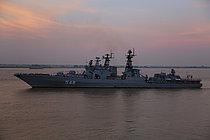MIL_Ship: (12, 50, 204, 91)
